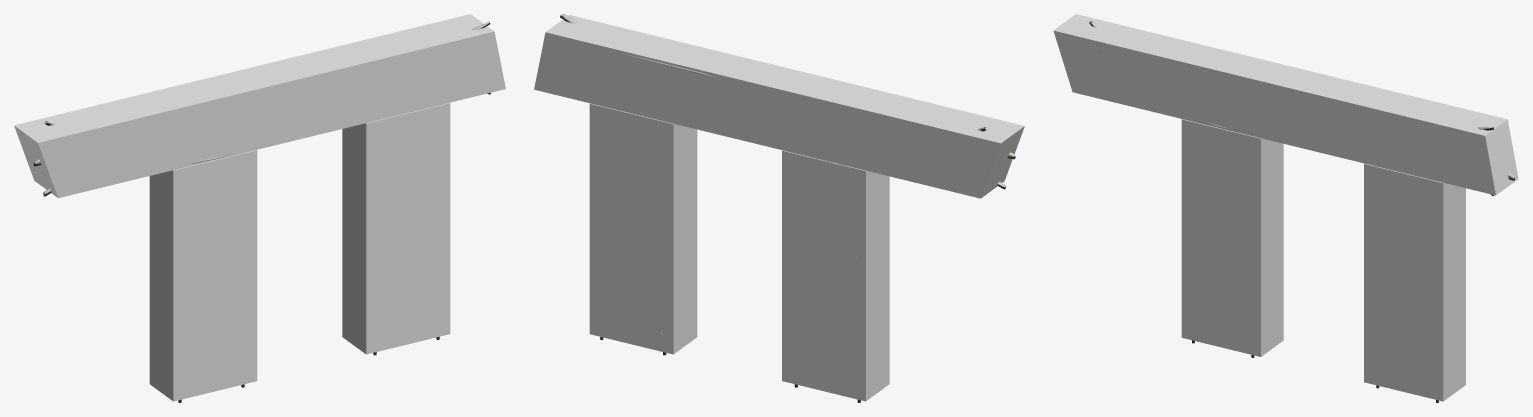
File: Arch_type02.fbx
3 renders of one model, left to right at view 1: azimuth 30°, elevation 25°; view 2: azimuth 150°, elevation 25°; view 3: azimuth 330°, elevation 25°, orthographic. The views are drawn at different scales.
Parts seen in each view (by area): view 1: Arch_type02_col; view 2: Arch_type02_col; view 3: Arch_type02_col.
Part boxes in pixels (bbox=[...]): Arch_type02_col: bbox=[14, 14, 505, 401]; Arch_type02_col: bbox=[534, 15, 1024, 401]; Arch_type02_col: bbox=[1053, 14, 1518, 401].
Size of the model in its own units: 363 by 222 by 33.57.
